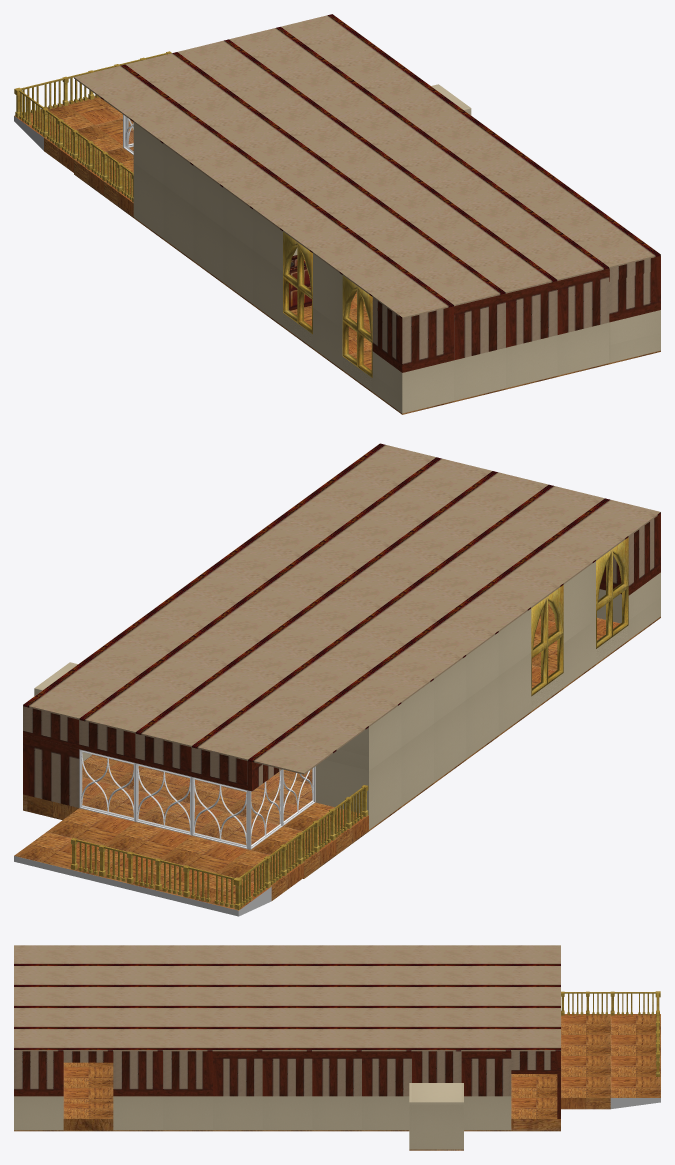
The model's file is Bedroom.fbx.
The picture shows the model from 3 angles, top to bottom: view 1: azimuth 30°, elevation 25°; view 2: azimuth 150°, elevation 25°; view 3: azimuth 270°, elevation 25°; orthographic projection. The views are drawn at different scales.
Visible parts, largest first — view 1: BedroomCeiling, BedroomWallB0LeftFirePlace, BedroomWallB1Front, BedroomWallB0Front, BedroomBalconyFloor, BedroomWallB1Left, BedroomWallB0LeftWindow, BedroomWallB0Left, BedroomBalconyRail, BedroomWallB1Right, BedroomWallB0Right, BedroomWallWindow (+6 smaller); view 2: BedroomCeiling, BedroomWallB0LeftFirePlace, BedroomBalconyFloor, BedroomFloorStairs, BedroomWindowCeiling, BedroomWallB0LeftWindow, BedroomBalconyRail, BedroomWallB0Back, BedroomBalconyRail.001, BedroomFloor, BedroomWallB1Left, BedroomWallWindow.001 (+8 smaller); view 3: BedroomCeiling, BedroomBalconyFloor, BedroomWallB1Right.001, BedroomWallB0Right.001, BedroomWallB1Right.002, BedroomWallHiddenRoom, BedroomWallB0Right.002, BedroomFloor, BedroomFloorStairs, BedroomWallB0Right.006, BedroomWallB1Right, BedroomWallB0Right (+6 smaller).
Part boxes in pixels (box(x1,y1,x2,y2)): BedroomCeiling: box(74, 14, 660, 318); BedroomWallB0LeftFirePlace: box(133, 122, 311, 325); BedroomWallB1Front: box(454, 268, 609, 360); BedroomWallB0Front: box(454, 322, 609, 400); BedroomBalconyFloor: box(14, 96, 133, 216); BedroomWallB1Left: box(372, 297, 453, 372); BedroomWallB0LeftWindow: box(283, 253, 372, 391); BedroomWallB0Left: box(372, 351, 453, 413); BedroomBalconyRail: box(31, 99, 133, 202); BedroomWallB1Right: box(609, 269, 660, 322); BedroomWallB0Right: box(609, 310, 660, 362); BedroomWallWindow: box(342, 275, 372, 377); BedroomCeiling: box(23, 443, 660, 774); BedroomWallB0LeftFirePlace: box(315, 608, 531, 829); BedroomBalconyFloor: box(14, 802, 368, 916); BedroomFloorStairs: box(23, 755, 302, 844); BedroomWindowCeiling: box(23, 706, 247, 790); BedroomWallB0LeftWindow: box(531, 561, 628, 710); BedroomBalconyRail: box(252, 785, 368, 896); BedroomWallB0Back: box(23, 735, 79, 807); BedroomBalconyRail.001: box(71, 838, 212, 902); BedroomFloor: box(23, 603, 660, 878); BedroomWallB1Left: box(599, 513, 660, 595); BedroomWallWindow.001: box(531, 585, 563, 696); BedroomCeiling: box(14, 945, 560, 1051); BedroomBalconyFloor: box(561, 1014, 660, 1109); BedroomWallB1Right.001: box(213, 1051, 411, 1096); BedroomWallB0Right.001: box(213, 1096, 409, 1130); BedroomWallB1Right.002: box(113, 1051, 212, 1096); BedroomWallHiddenRoom: box(409, 1083, 463, 1150); BedroomWallB0Right.002: box(113, 1096, 212, 1130); BedroomFloor: box(14, 1062, 560, 1131); BedroomFloorStairs: box(511, 1074, 560, 1130); BedroomWallB0Right.006: box(461, 1051, 511, 1096); BedroomWallB1Right: box(14, 1055, 63, 1096); BedroomWallB0Right: box(14, 1096, 63, 1130).
Bounding box in the file's own units: 1185 × 360 × 2602.
